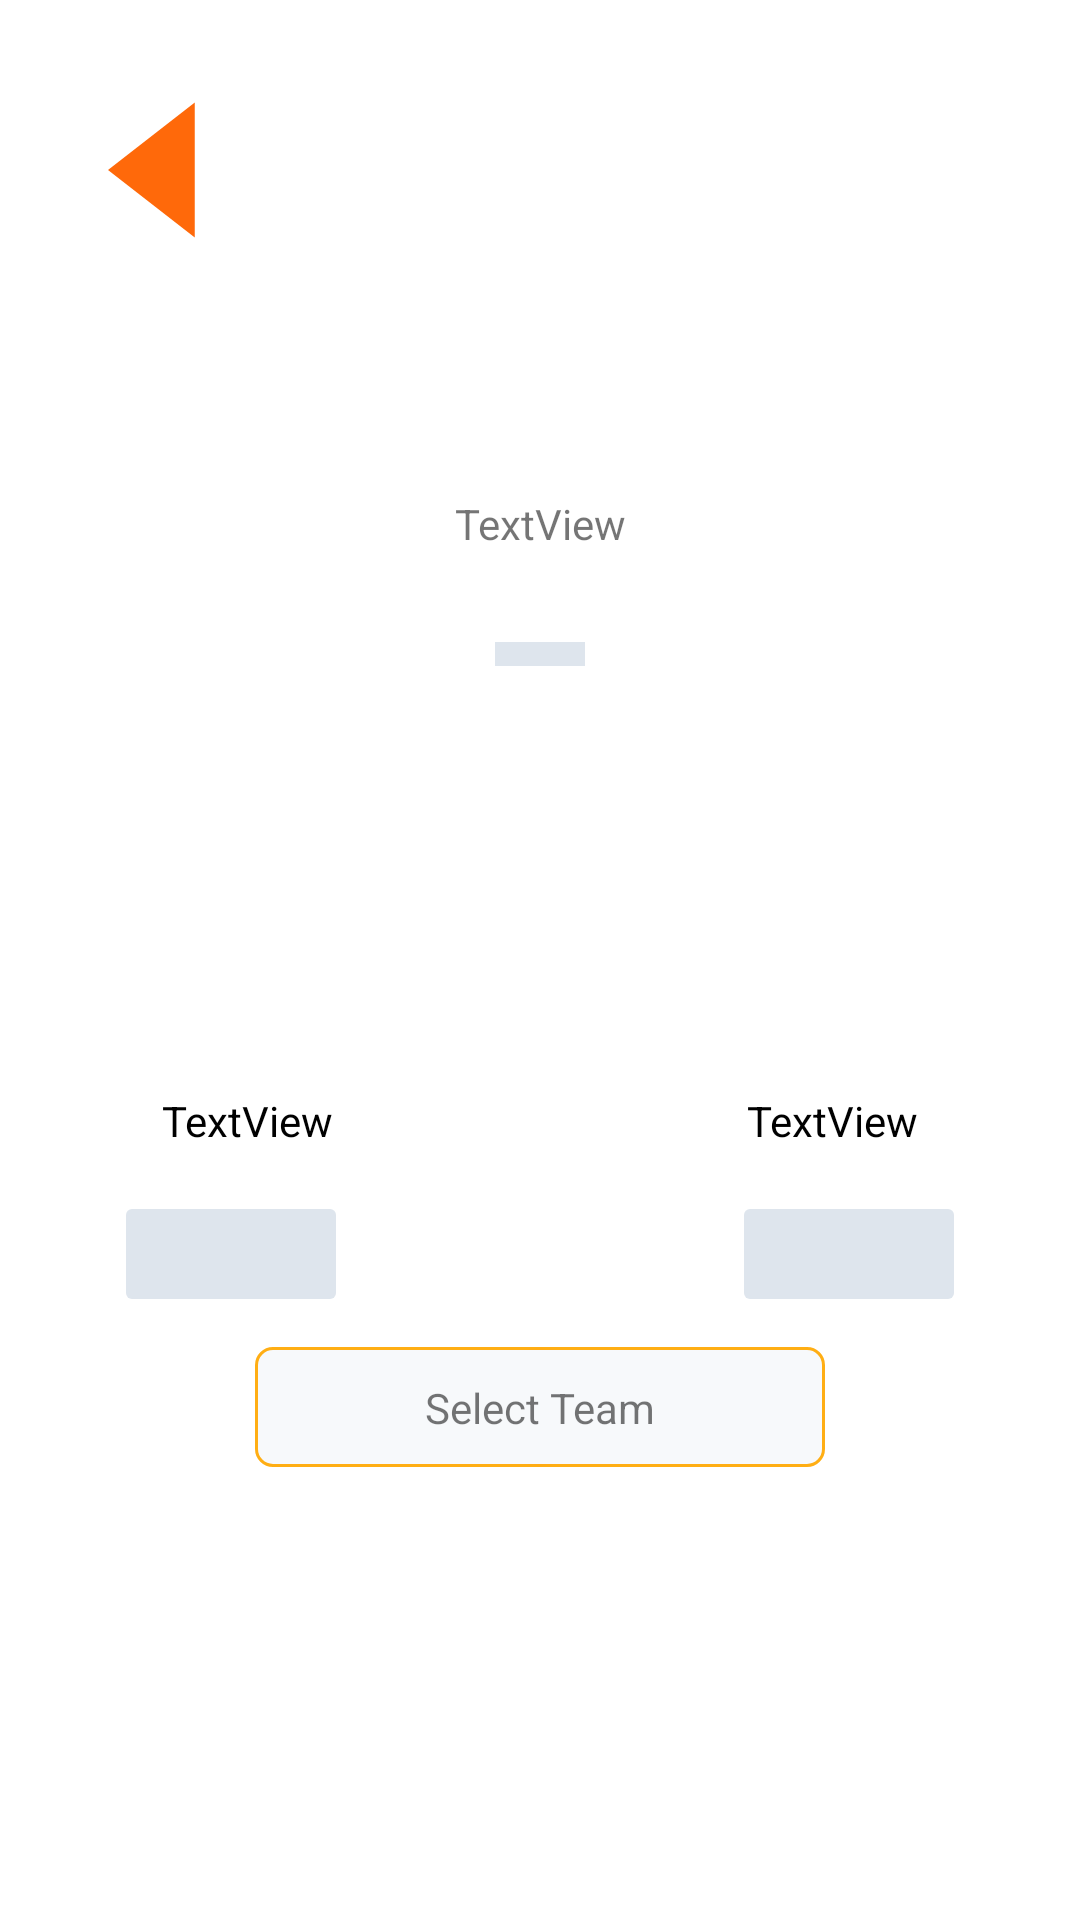

Locate icon controls on the screen. Image size 1080px×1920px, boxes as (x1, y1, x2, y2).
back: (108, 102, 195, 238)
